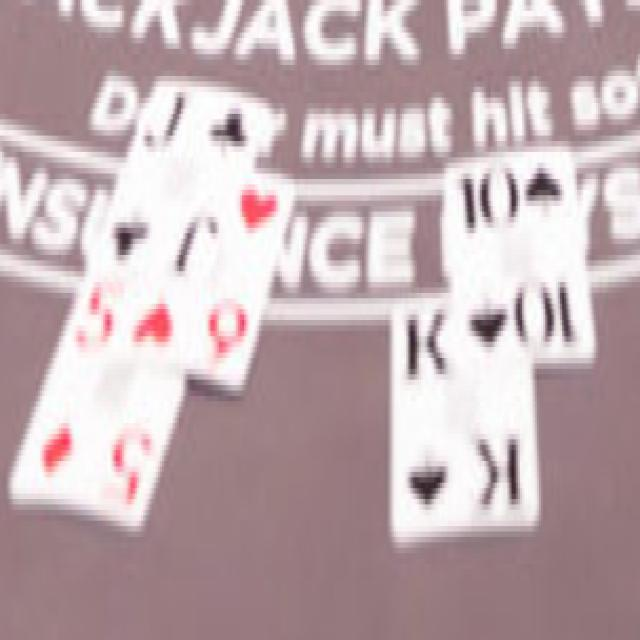Card-10: (455, 145, 596, 365)
Card-5: (9, 262, 186, 542)
Card-6: (130, 170, 295, 394)
Card-J: (97, 67, 265, 289)
Card-K: (393, 291, 538, 537)
